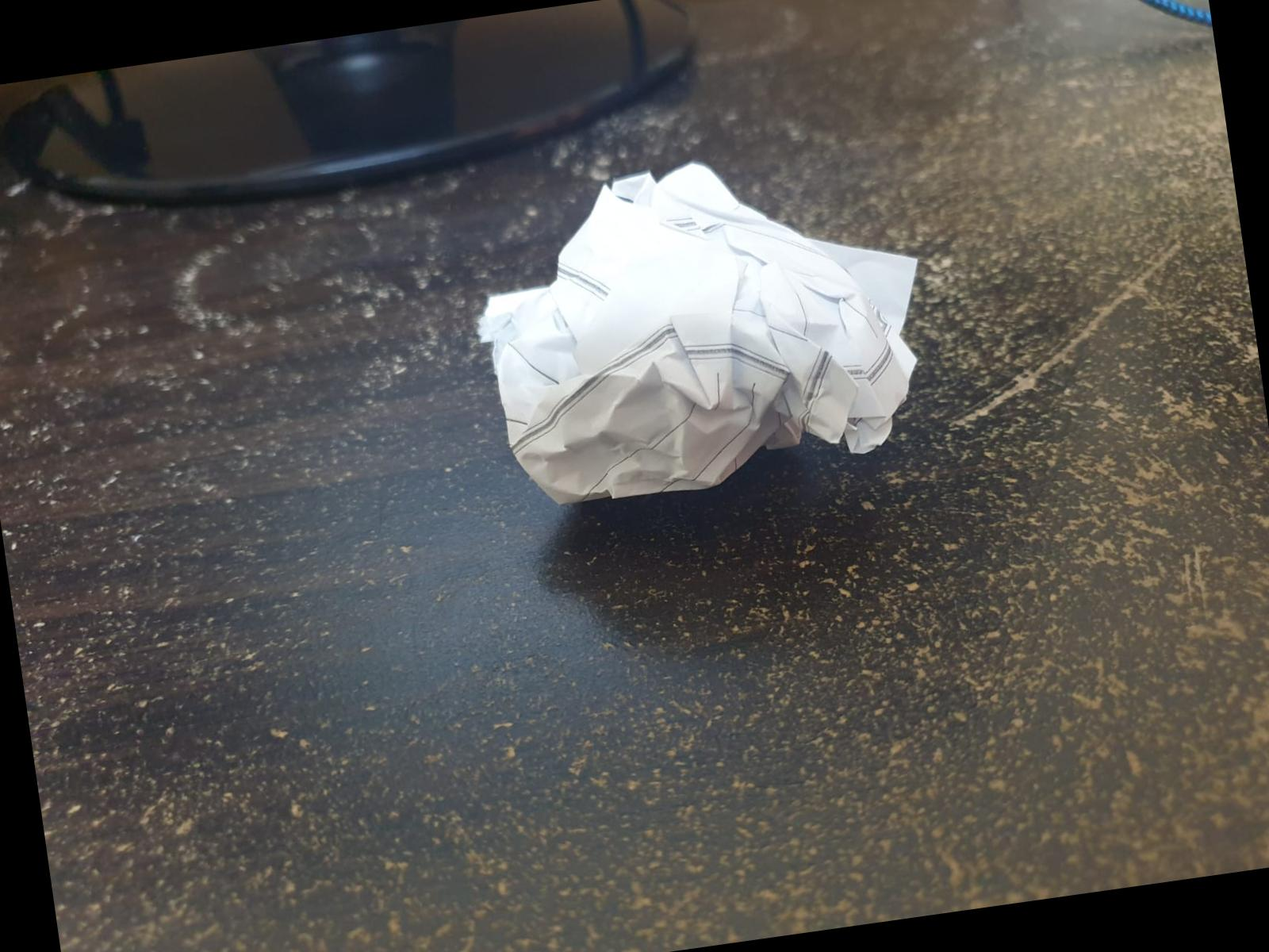Kertas: (474, 149, 934, 502)
